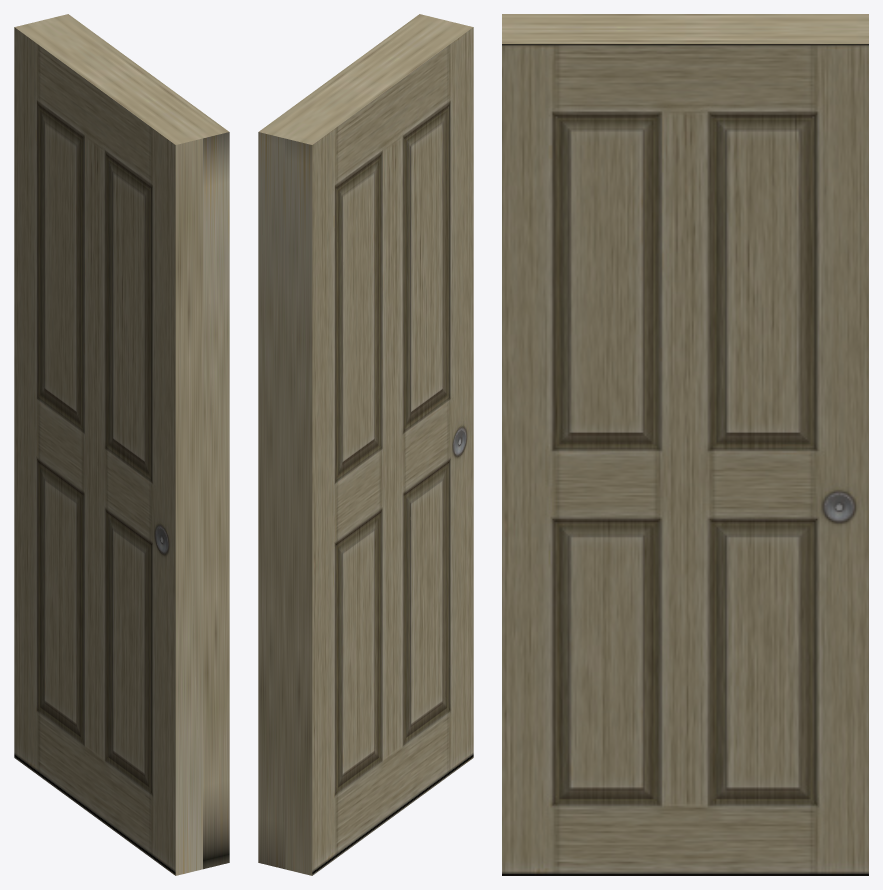
The model's file is door.obj.
3 views of the same model, side by side, from view 1: azimuth 30°, elevation 25°; view 2: azimuth 150°, elevation 25°; view 3: azimuth 270°, elevation 25° (orthographic). The views are drawn at different scales.
Visible parts, largest first — view 1: Door; view 2: Door; view 3: Door.
Part boxes in pixels (x1,y1,x2,y2): Door: (14, 14, 229, 875); Door: (258, 14, 473, 875); Door: (502, 14, 868, 875).
Size of the model in its own units: 0.3859 by 5 by 2.
Materials: 2 (2 with a texture image).
